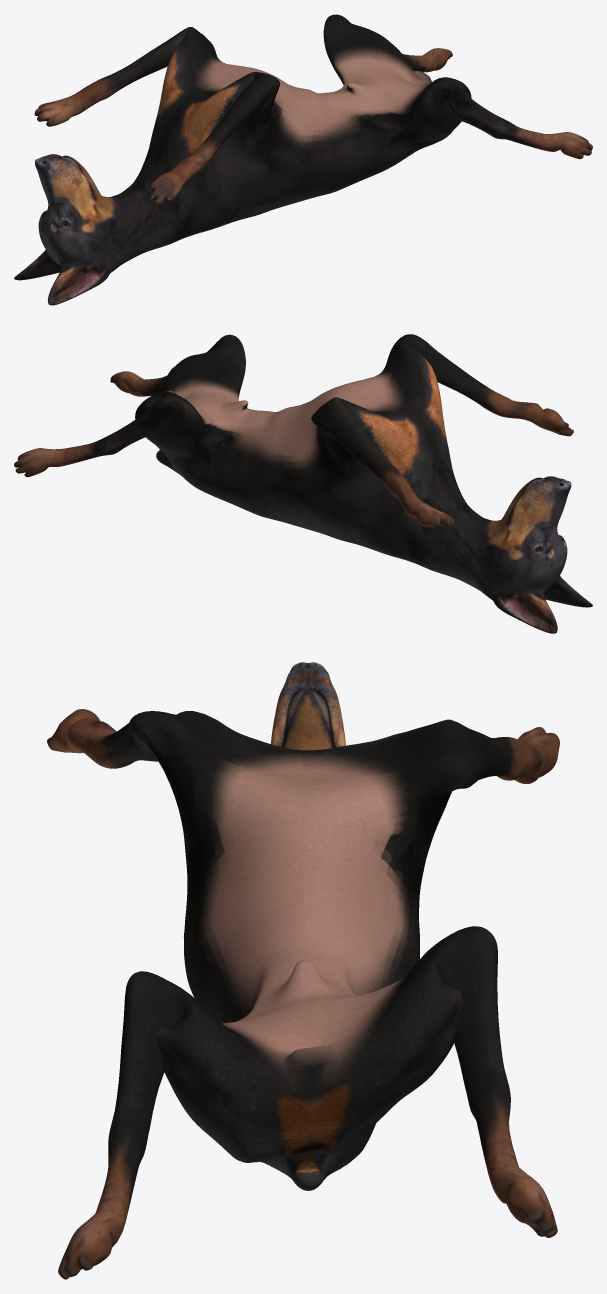
Rendered from doberman-ultrasound.glb.
3 views of the same model, one above another, from view 1: azimuth 30°, elevation 25°; view 2: azimuth 150°, elevation 25°; view 3: azimuth 270°, elevation 25° (orthographic). The views are drawn at different scales.
Parts seen in each view (by area): view 1: VETIC_Canine_Dorsal; view 2: VETIC_Canine_Dorsal; view 3: VETIC_Canine_Dorsal.
Boxes of the visible parts, x1=… form: VETIC_Canine_Dorsal: x1=14, y1=14, x2=592, y2=305; VETIC_Canine_Dorsal: x1=14, y1=334, x2=592, y2=633; VETIC_Canine_Dorsal: x1=47, y1=662, x2=559, y2=1279.
Bounding box in the file's own units: 1.79 × 0.6757 × 0.7918.
Materials: 1 (1 with a texture image).
